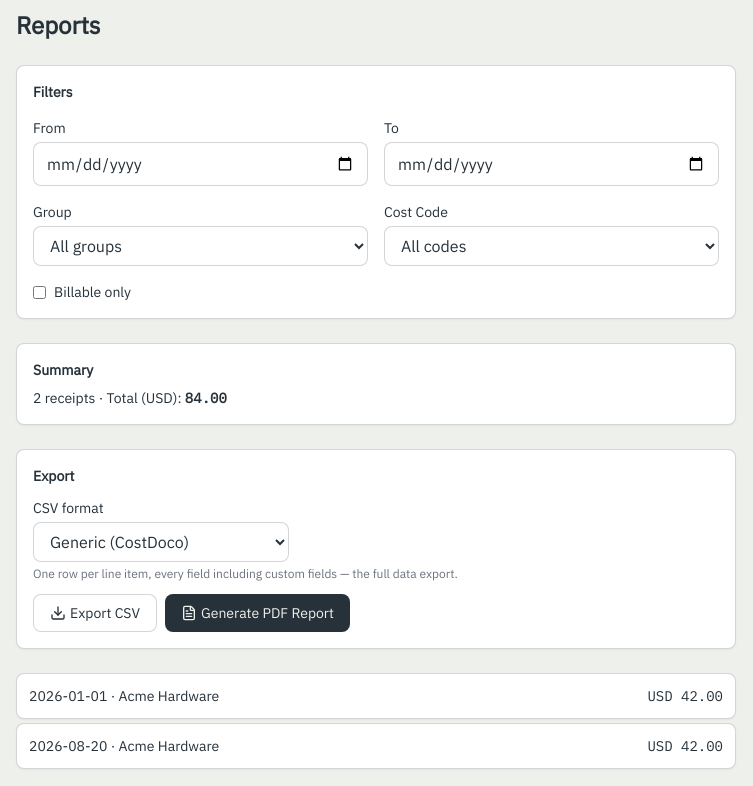
Test case: Reports › filters by date range
This screenshot has width=753, height=786.
Expected: the text "2 receipts · Total (USD): 84.00" is shown, [33,389,227,407]
Type "2026-06-01" into the date field labelled "From" at (200, 164), box [33,142,368,186]
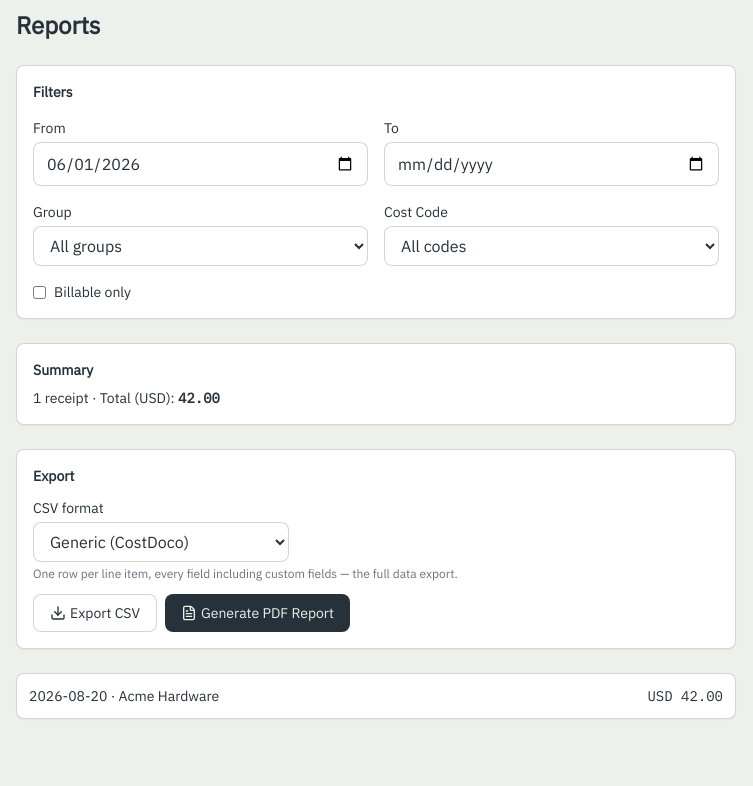
Now the text "1 receipt · Total (USD): 42.00" is shown, box [33,389,220,407]
